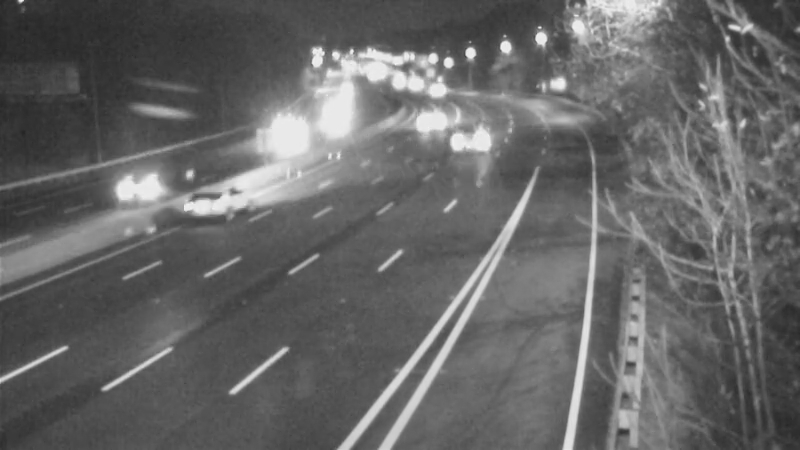vehicle: (159, 162, 239, 242), (96, 148, 176, 228), (411, 60, 461, 110), (410, 89, 460, 139), (442, 115, 492, 165), (259, 114, 309, 164), (316, 90, 366, 140)
